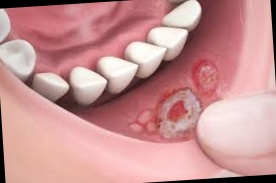Ulcer: (130, 89, 201, 140), (197, 63, 216, 95)
